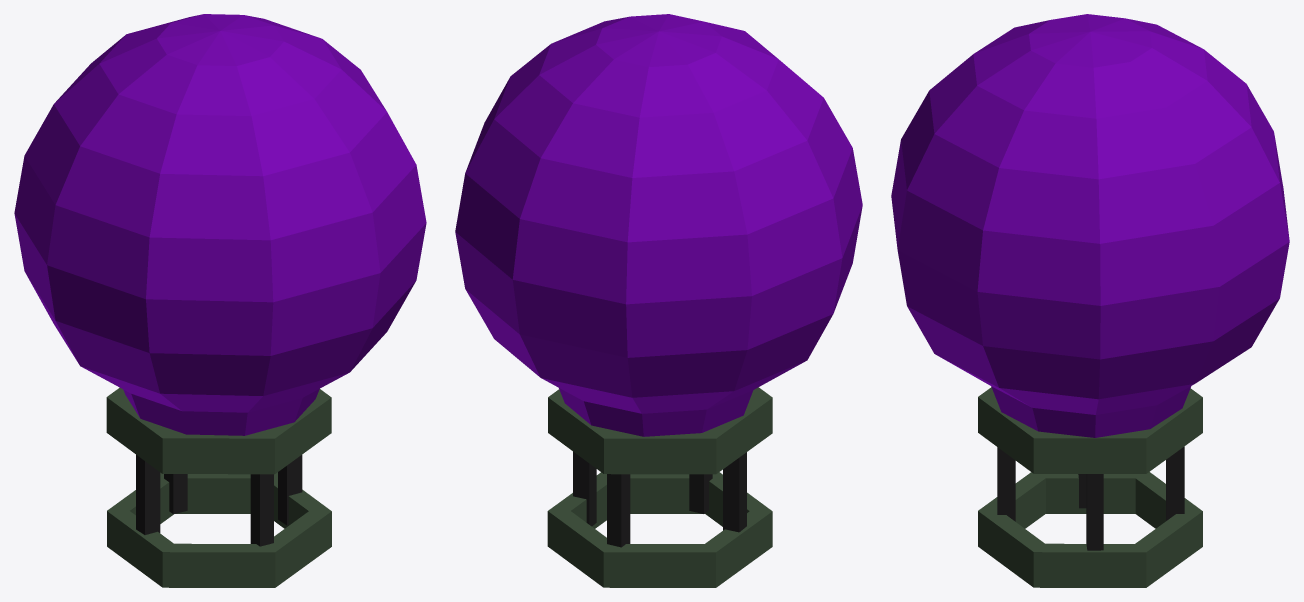
File: Blimp_001.fbx
The picture shows the model from 3 angles, left to right: view 1: azimuth 30°, elevation 25°; view 2: azimuth 150°, elevation 25°; view 3: azimuth 270°, elevation 25°; orthographic projection.
Parts seen in each view (by area): view 1: Blimp_001; view 2: Blimp_001; view 3: Blimp_001.
Boxes of the visible parts, bbox=[...] form: Blimp_001: bbox=[14, 14, 426, 587]; Blimp_001: bbox=[455, 14, 862, 587]; Blimp_001: bbox=[891, 14, 1289, 587].
Bounding box in the file's own units: 3330 × 4594 × 3218.
Materials: 1 (1 with a texture image).
